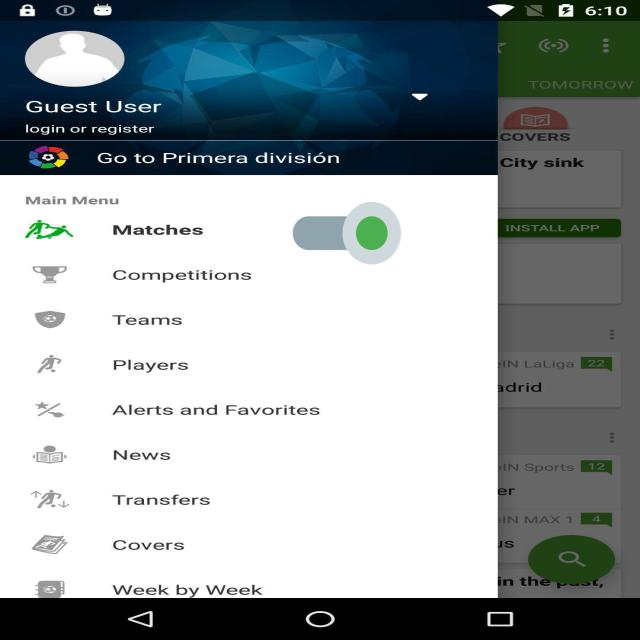social proof: (293, 175, 401, 291)
